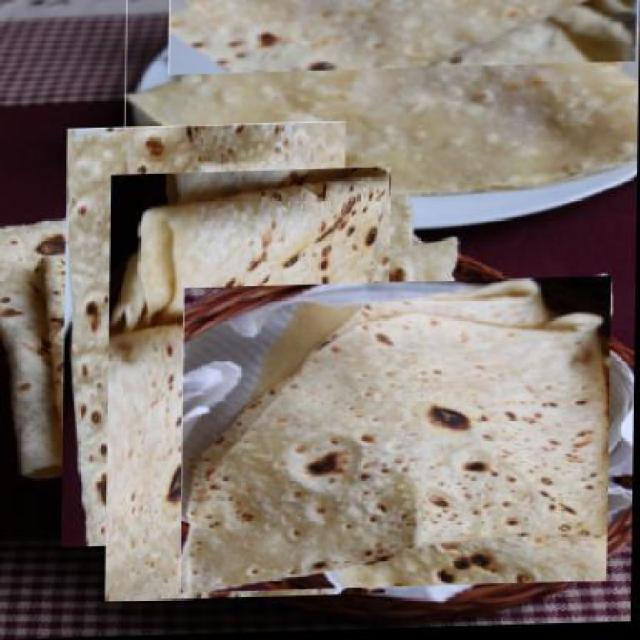chapati: (180, 279, 614, 596), (70, 206, 428, 568), (29, 158, 383, 516), (123, 0, 639, 205), (167, 0, 638, 77)
